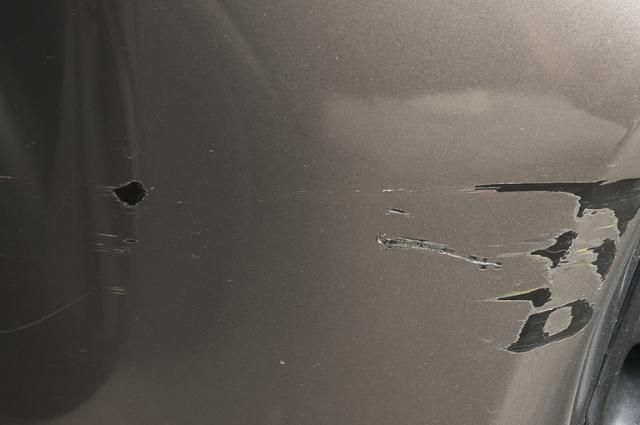Fender: (0, 20, 640, 425)
